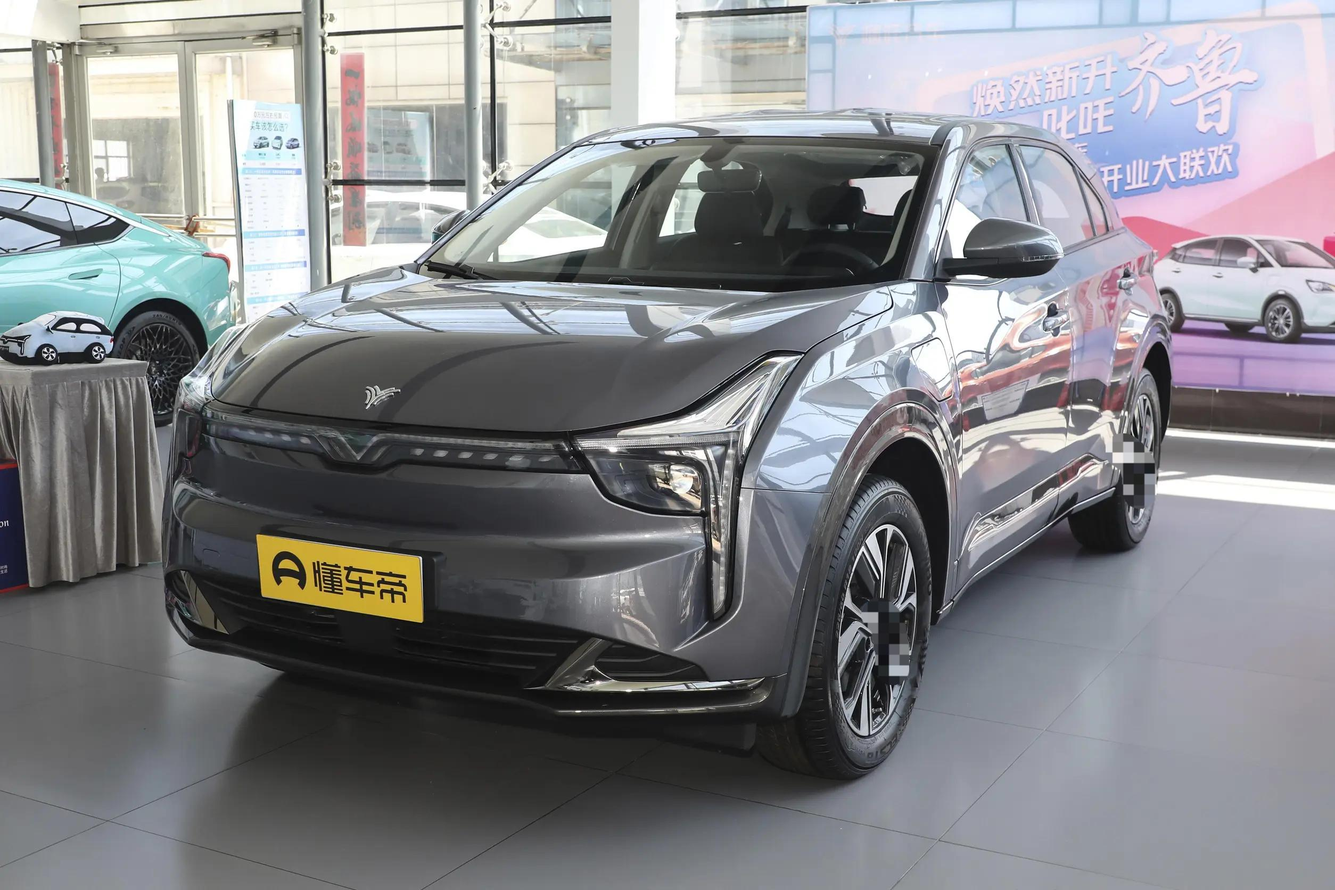NETA: (362, 384, 400, 411)
